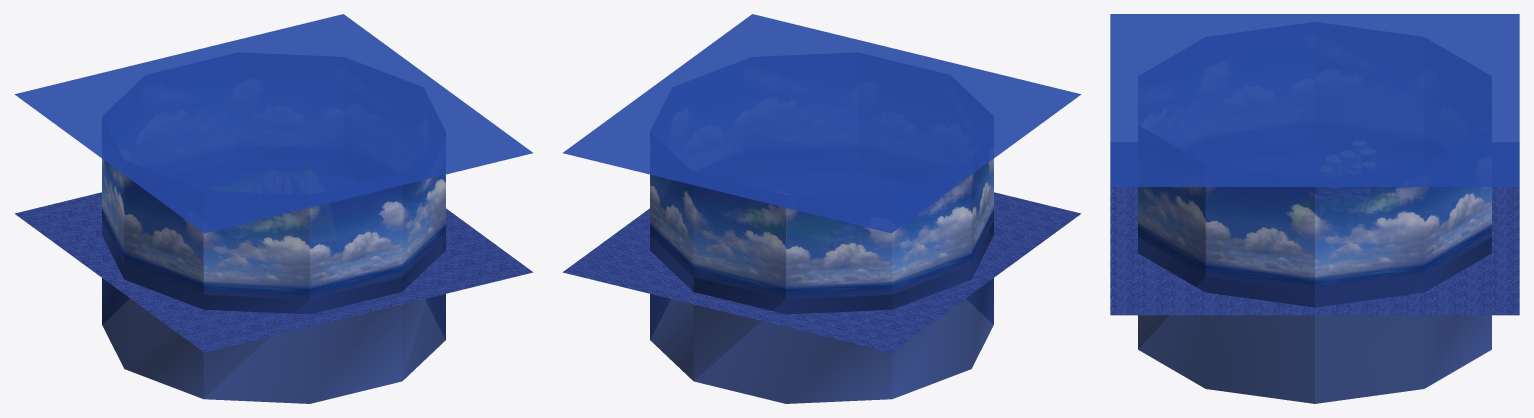
Rendered from chao_garden.glb.
3 renders of one model, left to right at view 1: azimuth 30°, elevation 25°; view 2: azimuth 150°, elevation 25°; view 3: azimuth 270°, elevation 25°, orthographic. The views are drawn at different scales.
Visible parts, largest first — view 1: Object_8, Object_10, Object_9; view 2: Object_8, Object_10, Object_9; view 3: Object_8, Object_10, Object_9.
Boxes of the visible parts, bbox=[...] form: Object_8: bbox=[15, 14, 533, 403]; Object_10: bbox=[15, 192, 533, 352]; Object_9: bbox=[102, 158, 445, 299]; Object_8: bbox=[562, 14, 1080, 403]; Object_10: bbox=[562, 192, 1080, 352]; Object_9: bbox=[693, 175, 971, 299]; Object_8: bbox=[1110, 14, 1519, 403]; Object_10: bbox=[1110, 187, 1519, 315]; Object_9: bbox=[1138, 187, 1424, 291].
Size of the model in its own units: 1255 by 760 by 1255.
12 materials, 12 textured.
